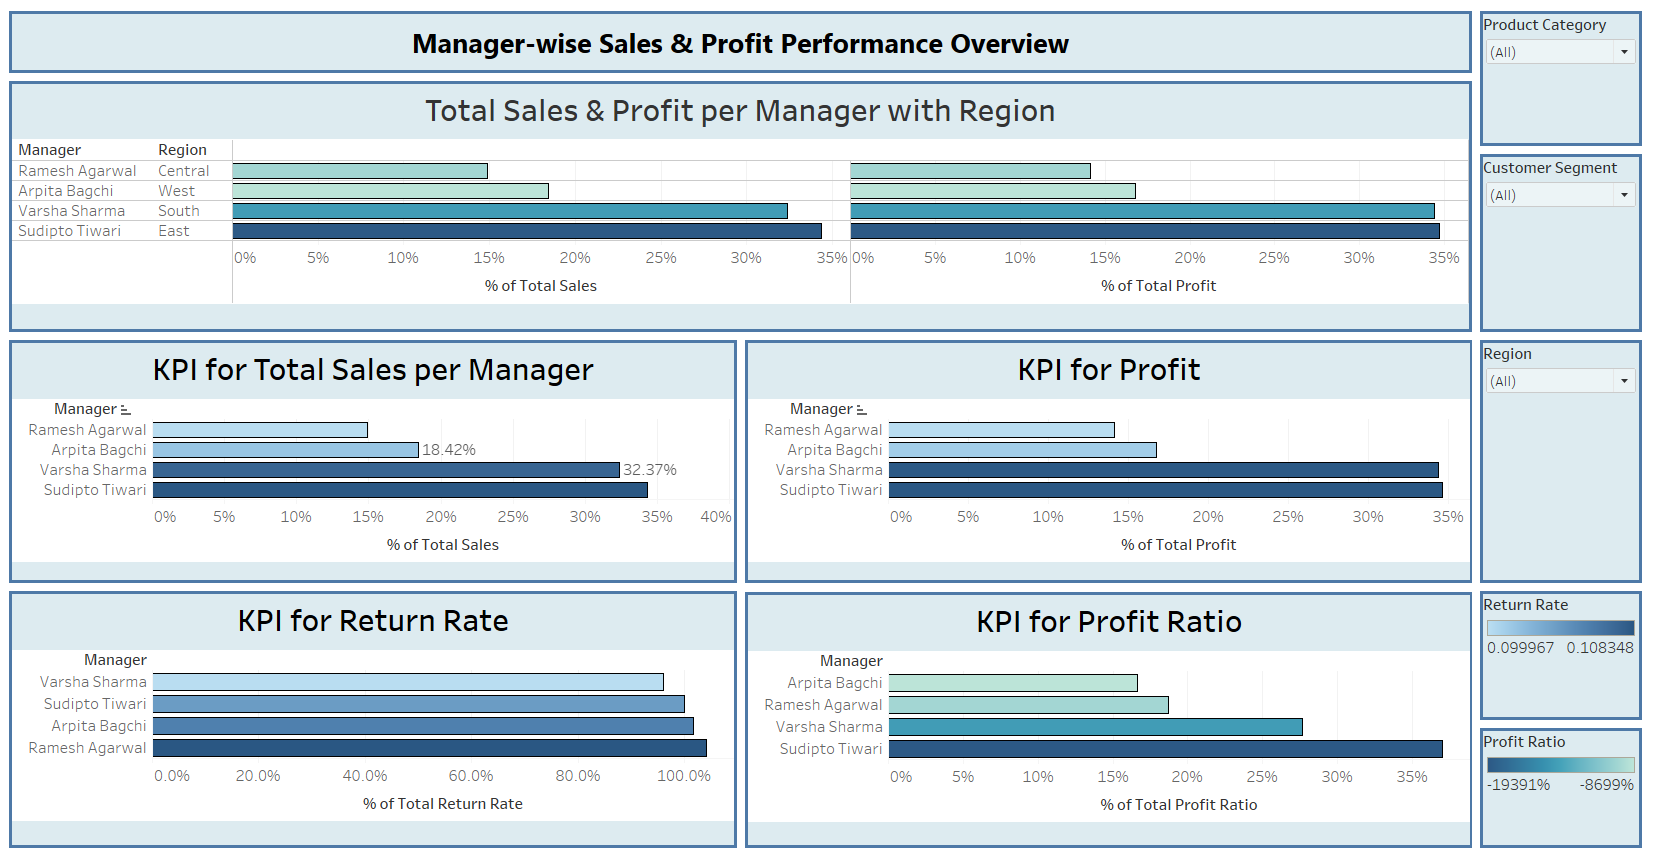

Layout of this report page (visuals, bound fields, positions):
{"tool":"tableau","page":{"name":"Manager Sales & Profit Perf.","canvas":[1000,1000],"units":"permille","ordinal":1},"visuals":[{"type":"text","box":[4.8,10,887.9,81.1]},{"type":"filter","title":"Total Sales & Profit per Manager","param":"[federated.0lc2qp609r7qte17zzql31nmvyj1].[none:Product Category:nk]","box":[892.7,10,102.5,166]},{"type":"worksheet","title":"Total Sales & Profit per Manager","mark":"Automatic","rows":["Person","Region"],"cols":["Sales","Profit"],"box":[4.8,91.1,887.9,300.9]},{"type":"filter","title":"Total Sales & Profit per Manager","param":"[federated.0lc2qp609r7qte17zzql31nmvyj1].[none:Customer Segment:nk]","box":[892.7,176,102.5,216]},{"type":"worksheet","title":"KPI for Sales","mark":"Automatic","rows":["Person"],"cols":["Sales"],"box":[4.8,392,443.9,290.9]},{"type":"worksheet","title":"KPI for Profit","mark":"Automatic","rows":["Person"],"cols":["Profit"],"box":[448.7,392,444,291.5]},{"type":"filter","title":"Total Sales & Profit per Manager","param":"[federated.0lc2qp609r7qte17zzql31nmvyj1].[none:Region:nk]","box":[892.7,392,102.5,290.9]},{"type":"worksheet","title":"KPI for Return Rate","mark":"Automatic","rows":["Person"],"cols":["Calculation_1713619682490839042"],"box":[4.8,682.9,443.9,307.1]},{"type":"legend","title":"KPI for Return Rate","param":"[federated.0lc2qp609r7qte17zzql31nmvyj1].[usr:Calculation_1713619682490839042:qk","box":[892.7,682.9,102.5,158.6]},{"type":"worksheet","title":"KPI for Profit Ratio","mark":"Automatic","rows":["Person"],"cols":["Calculation_1713619682488786944"],"box":[448.7,683.5,444,306.5]},{"type":"legend","title":"KPI for Profit Ratio","param":"[federated.0lc2qp609r7qte17zzql31nmvyj1].[sum:Calculation_1713619682488786944:qk","box":[892.7,841.4,102.5,148.6]}]}

Visuals, with their boxes on the dashboard's canvas, which has no fixed pixel size, in thousandths of its width and height (x1, y1, x2, y2). These are canvas units, not pixel positions in the 1654x859 screenshot, which may show the page scaled, cropped or inside an application window:
text: (x1=5, y1=10, x2=893, y2=91)
"Total Sales & Profit per Manager" filter: (x1=893, y1=10, x2=995, y2=176)
"Total Sales & Profit per Manager" worksheet: (x1=5, y1=91, x2=893, y2=392)
"Total Sales & Profit per Manager" filter: (x1=893, y1=176, x2=995, y2=392)
"KPI for Sales" worksheet: (x1=5, y1=392, x2=449, y2=683)
"KPI for Profit" worksheet: (x1=449, y1=392, x2=893, y2=684)
"Total Sales & Profit per Manager" filter: (x1=893, y1=392, x2=995, y2=683)
"KPI for Return Rate" worksheet: (x1=5, y1=683, x2=449, y2=990)
"KPI for Return Rate" legend: (x1=893, y1=683, x2=995, y2=842)
"KPI for Profit Ratio" worksheet: (x1=449, y1=684, x2=893, y2=990)
"KPI for Profit Ratio" legend: (x1=893, y1=841, x2=995, y2=990)
